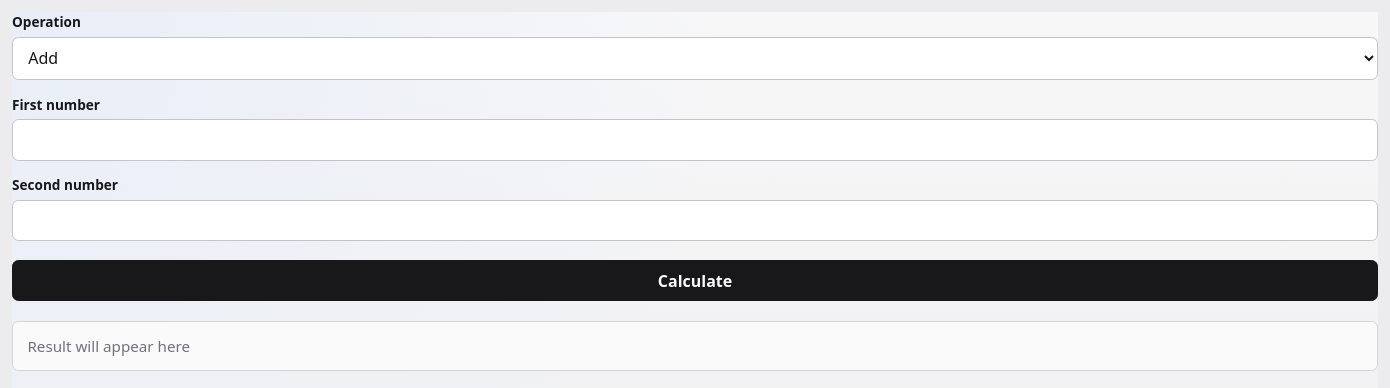
Test case: Calculator › shows only Number for Square root
The image size is (1390, 388).
Select "Square root" in the dropdown labelled "Operation" at coordinates (695, 58), box top-left (12, 37), bottom-right (1378, 80)
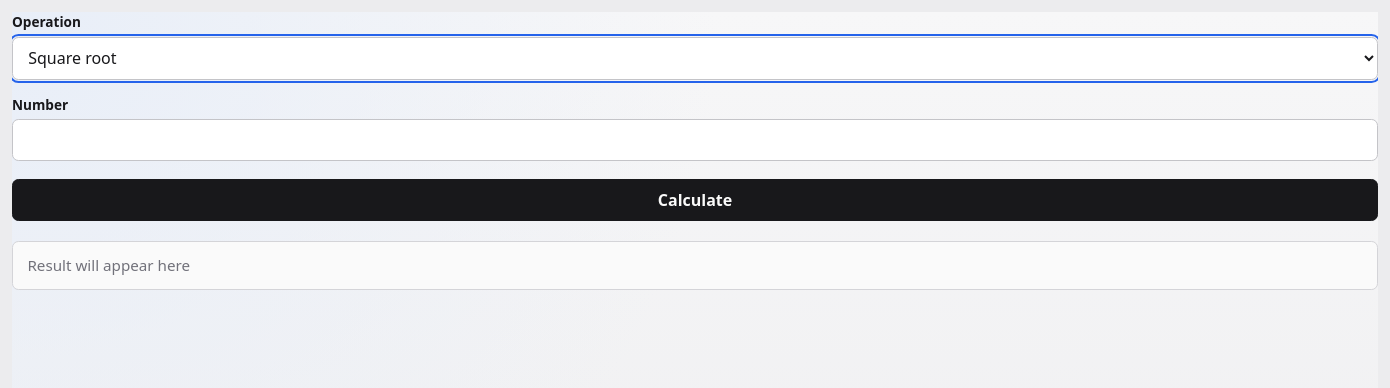
Check: the field labelled "Number" is shown, box top-left (12, 119), bottom-right (1378, 161)
Check: the label labelled "Second number" is gone
